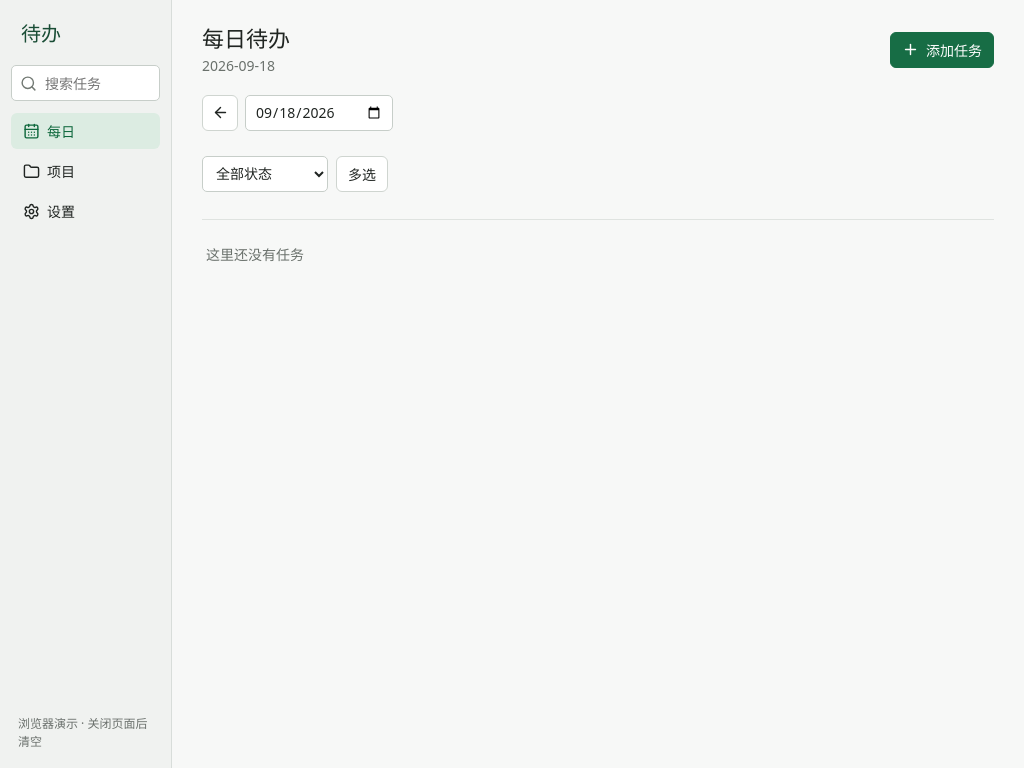
Scenario: right-clicking empty space in the projects view lists only 新建项目
The width and height of the screenshot is (1024, 768).
Click the tab "项目".
click(86, 171)  # box [11,153,160,189]
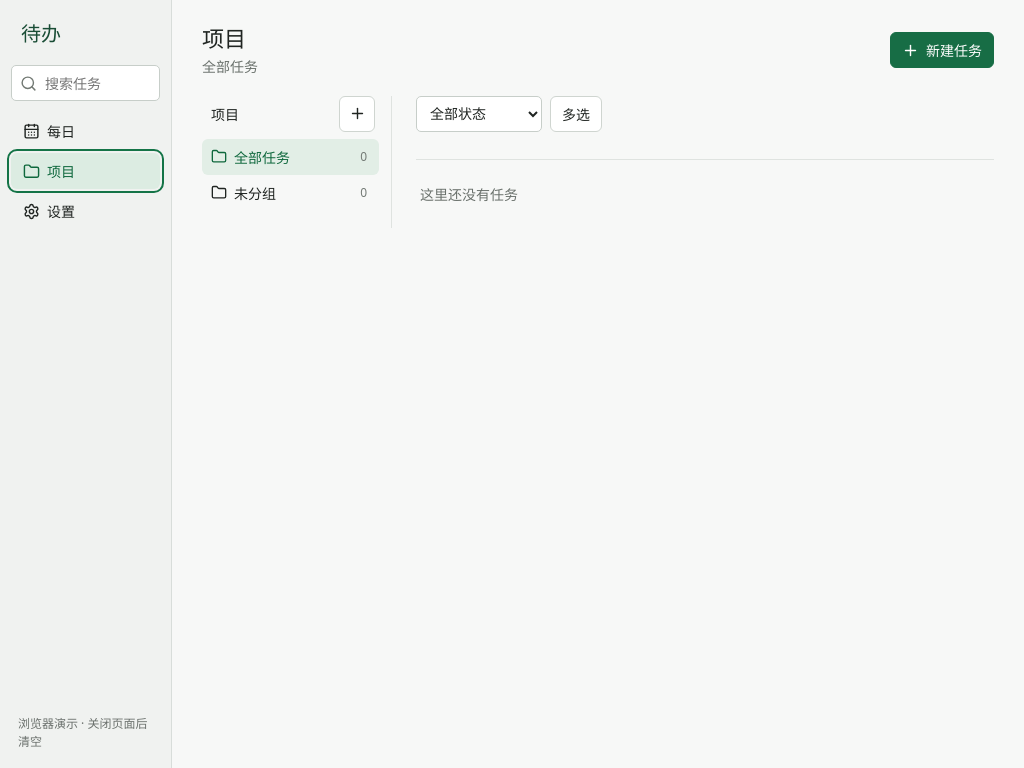
Right-click the panel "项目".
right_click(598, 126)  # box [202,25,994,228]
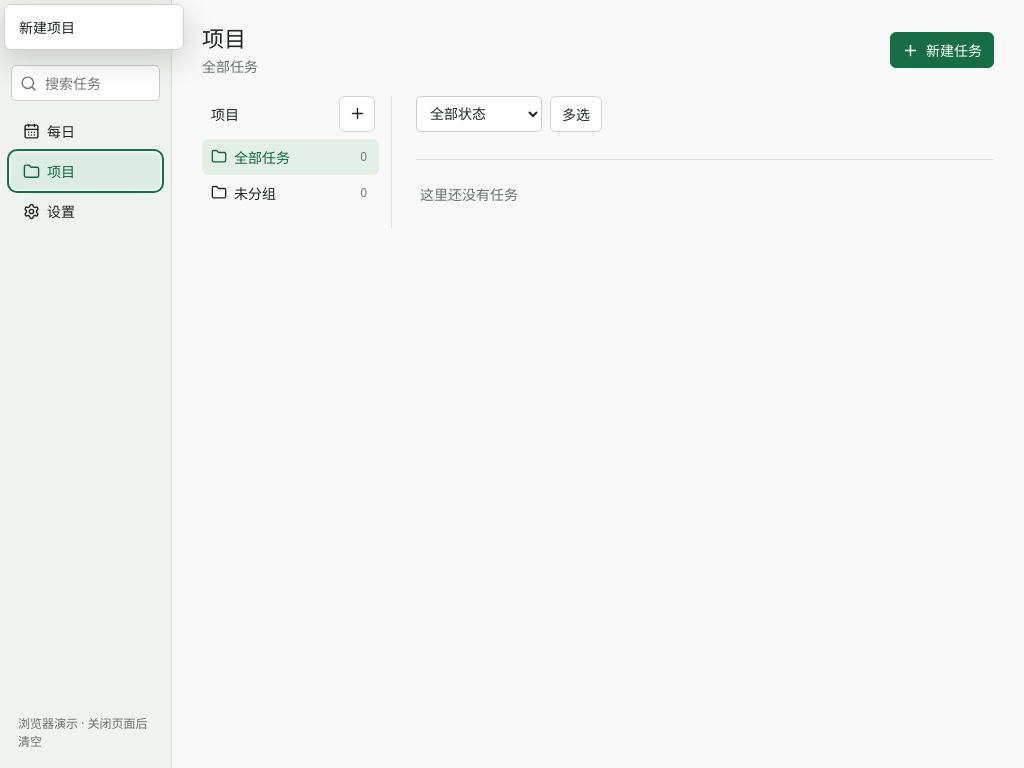
Check: the menu item "新建项目" is shown, box [10,10,178,44]
